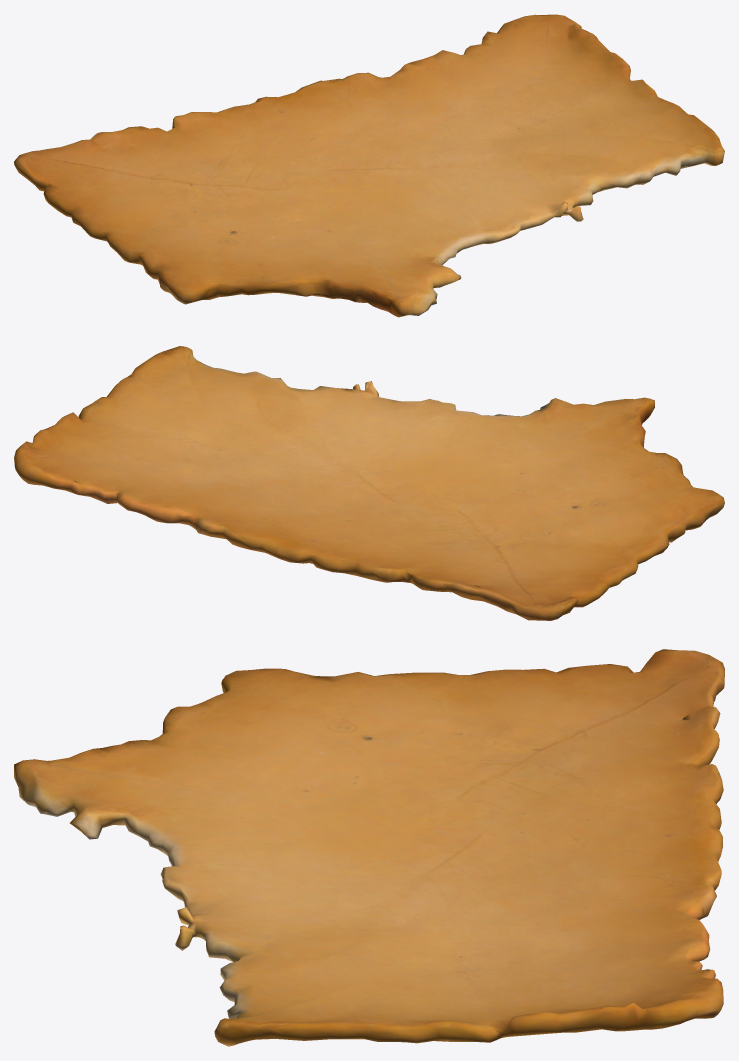
File: Baked_Map_Outline_0725002312_texture.fbx
3 renders of one model, top to bottom at view 1: azimuth 30°, elevation 25°; view 2: azimuth 150°, elevation 25°; view 3: azimuth 270°, elevation 25°, orthographic. The views are drawn at different scales.
Parts seen in each view (by area): view 1: input; view 2: input; view 3: input.
Part boxes in pixels (box(x1,y1,x2,y2)): input: box(14, 14, 724, 317); input: box(14, 346, 724, 620); input: box(14, 649, 724, 1046).
Size of the model in its own units: 200 by 15.95 by 155.
Materials: 1 (1 with a texture image).
